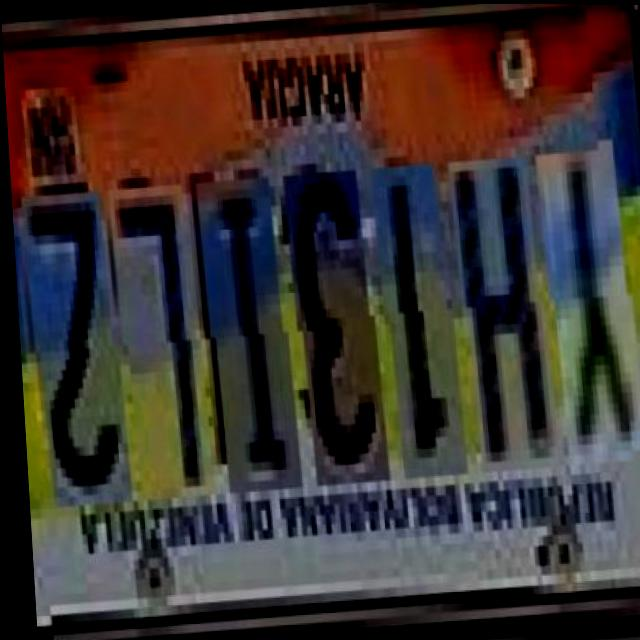1: (372, 159, 459, 474)
2: (20, 181, 123, 496)
3: (284, 164, 380, 480)
h: (449, 153, 552, 469)
i: (197, 170, 293, 485)
l: (109, 175, 206, 491)
y: (537, 147, 640, 463)
